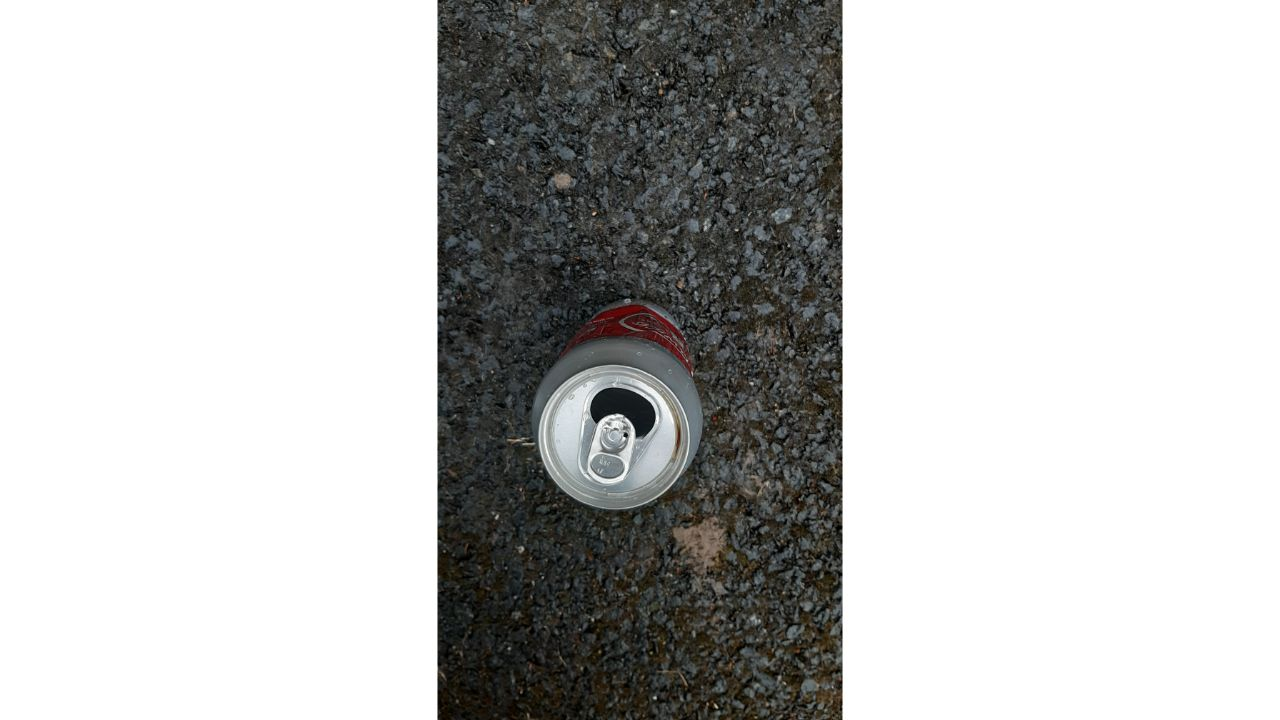Can: (530, 300, 708, 517)
